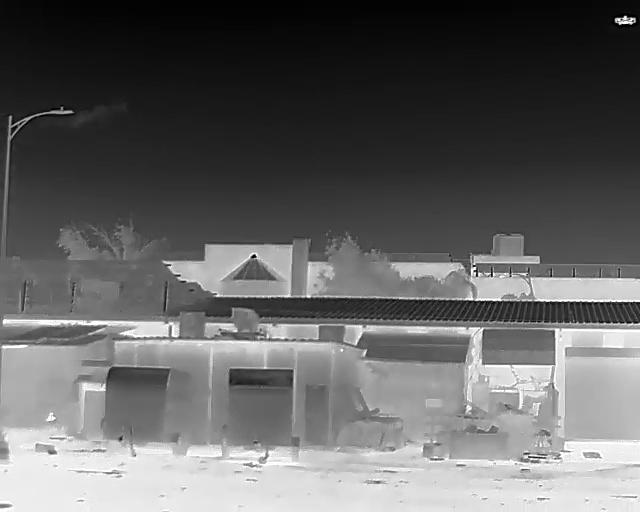fpv-drone: (614, 15, 635, 25)
